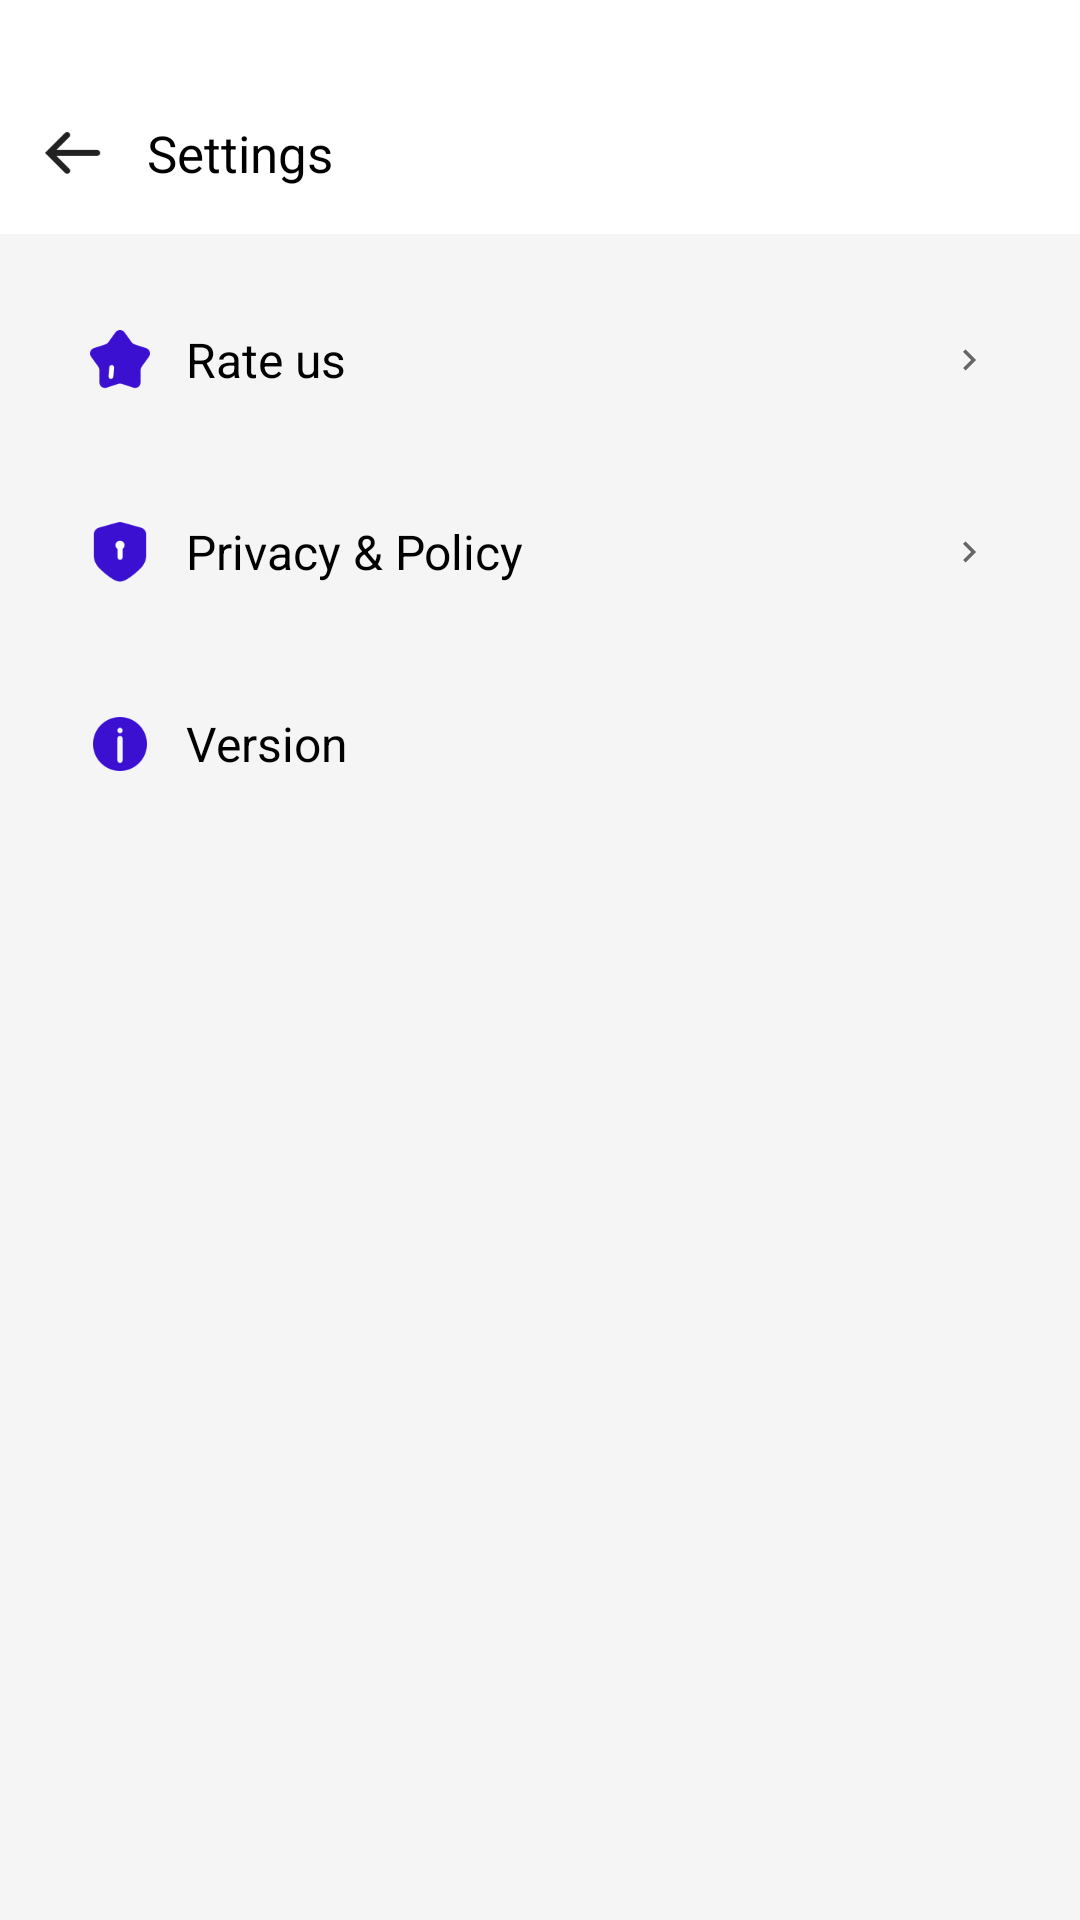

Icons on this 1080x1920 Android screen, each with the point to tap as (x=x, y=y):
back: (x=73, y=153)
